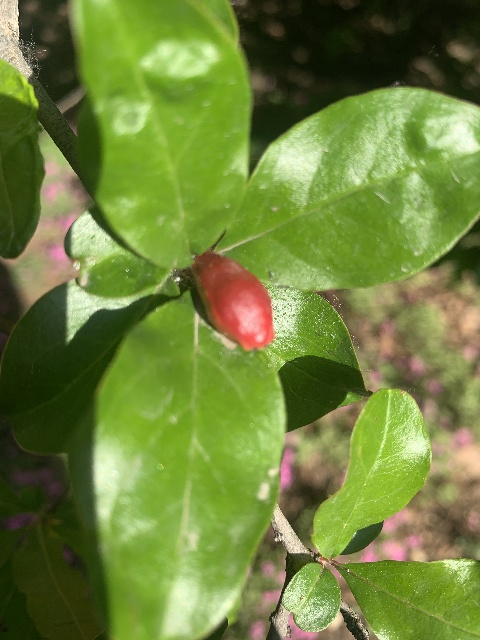bud: (193, 251, 274, 352)
